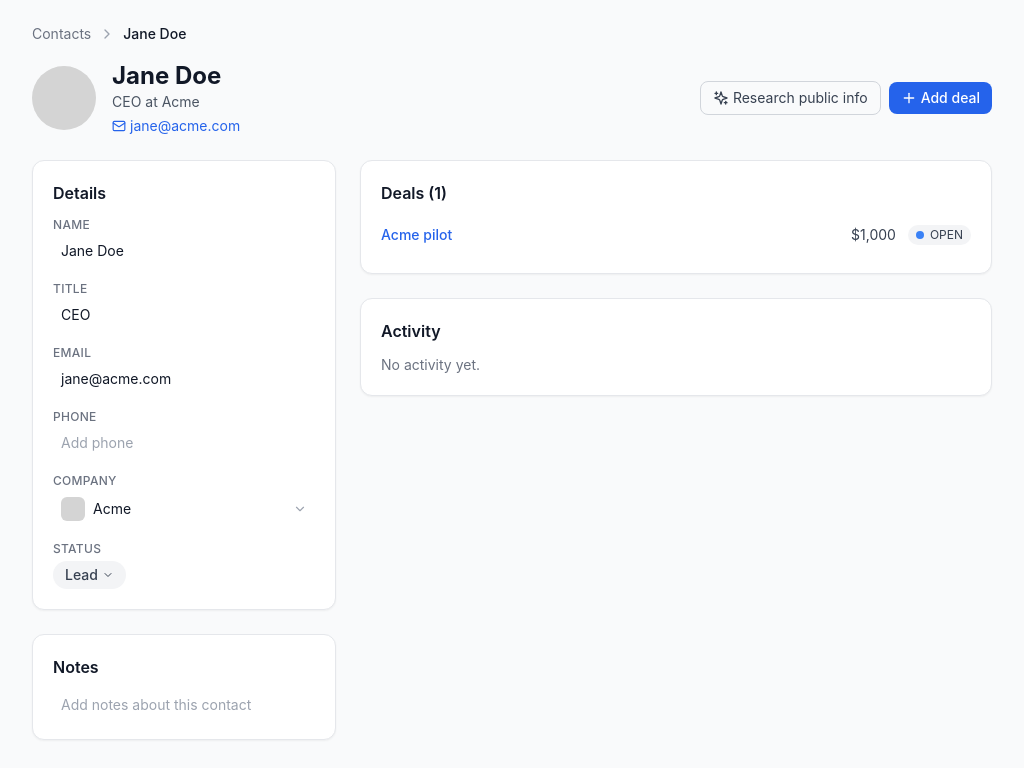
ContactPage › runs web enrichment and applies the returned fields
Step 1. Click the button "Research public info" → (790, 98), box left=700, top=81, right=881, bottom=115
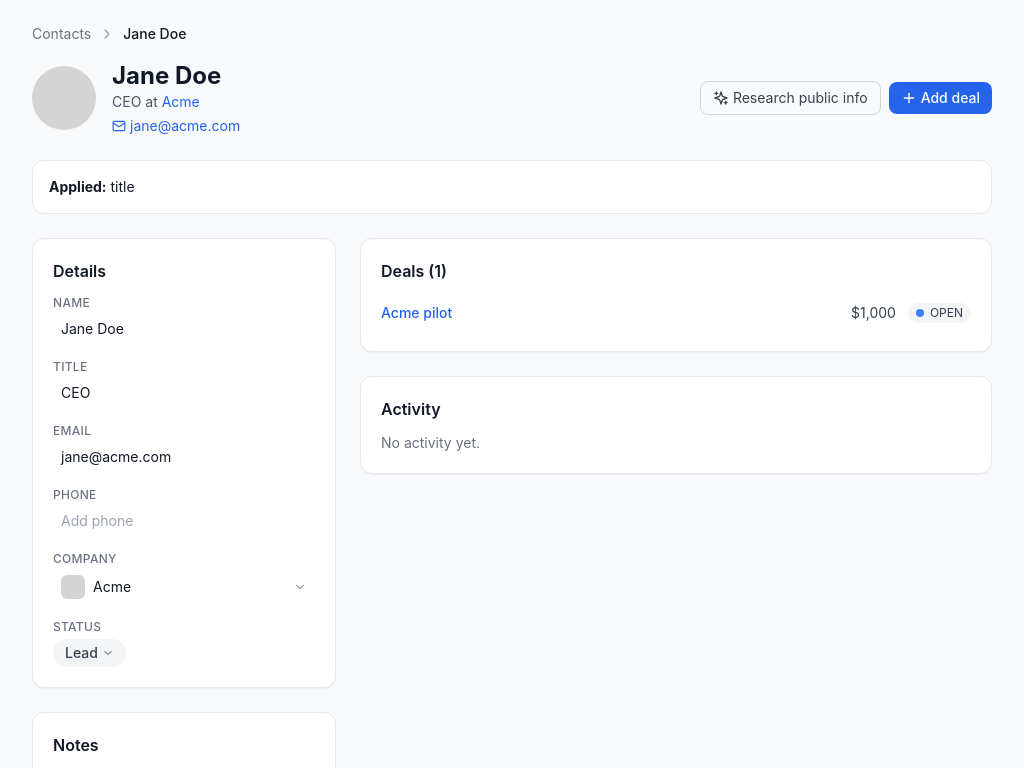
Check: the text "Applied:" is shown, box left=49, top=178, right=106, bottom=195
